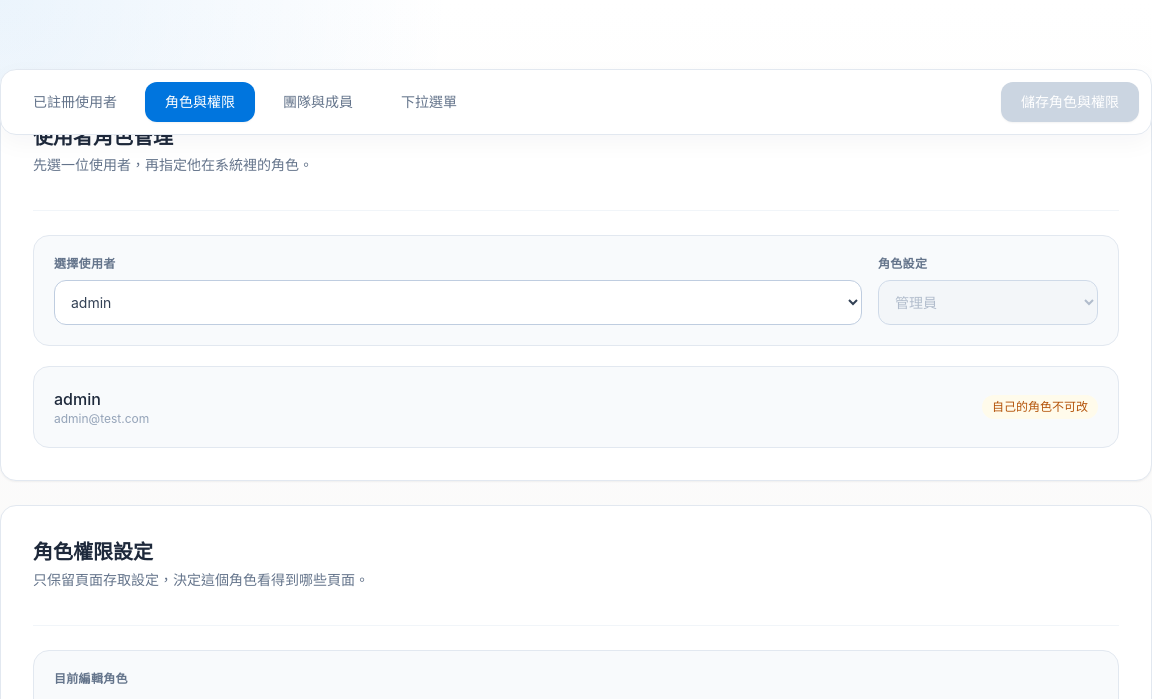
Test case: SettingsPage › keeps registered user roles aligned with saved settings before save
The width and height of the screenshot is (1152, 699).
Select "leader" in the dropdown labelled "選擇使用者" at (458, 302), box [54,280,862,325]
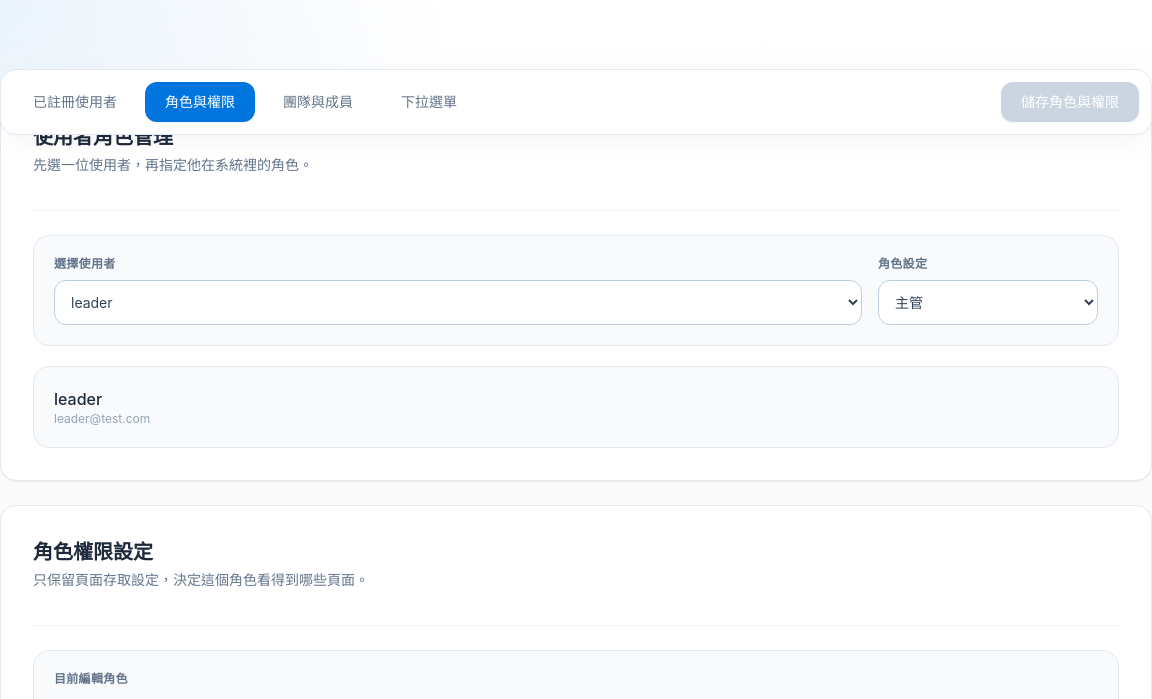
Select "員工" in the dropdown labelled "角色設定" at (988, 302), box [878,280,1098,325]
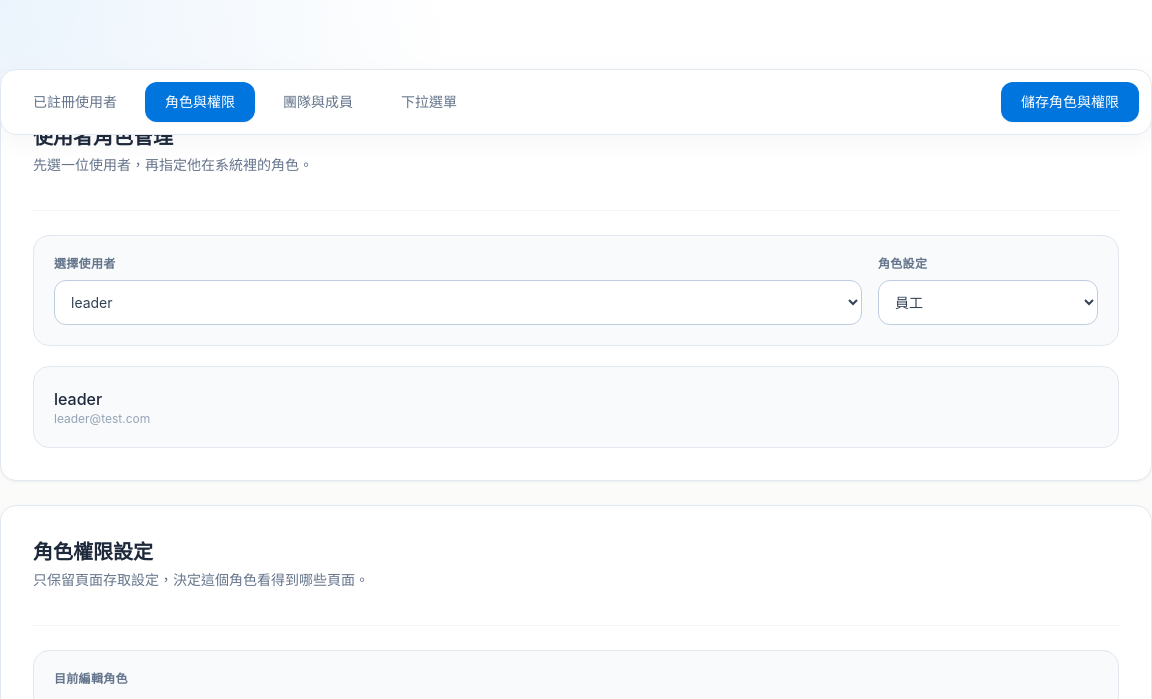
Click the button "已註冊使用者".
click(75, 102)  # box [13,82,137,122]
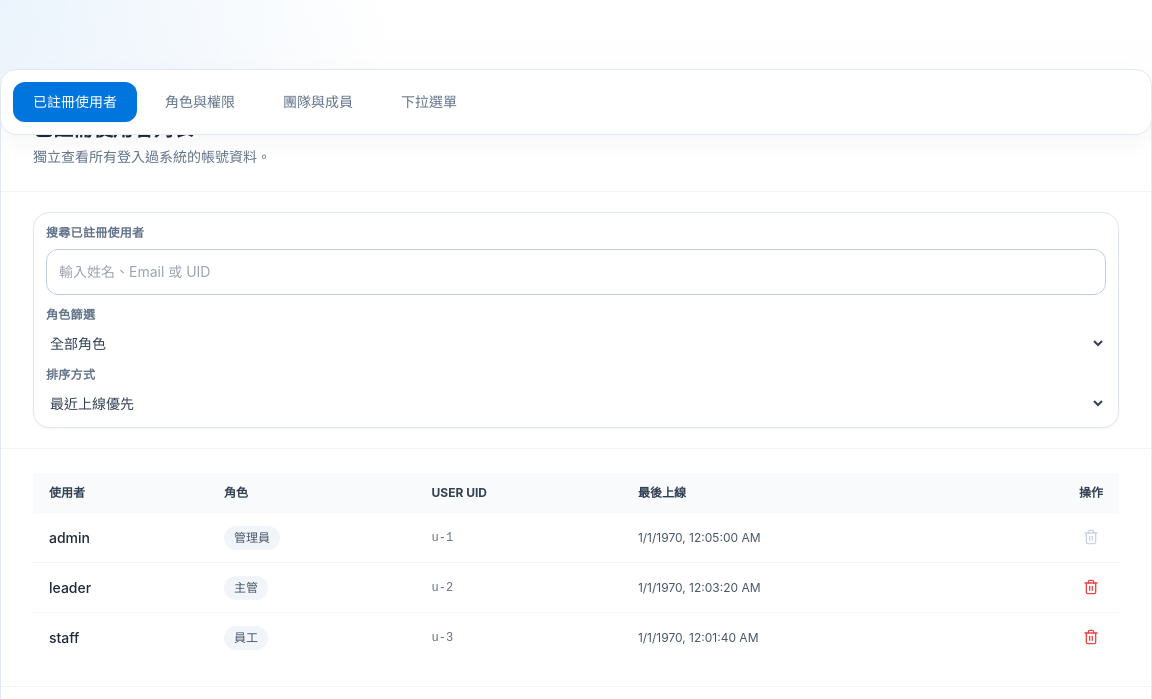
Expected: the text "leader" is shown, [33,562,208,612]
Expected: the text "主管" is shown, [224,576,268,600]
